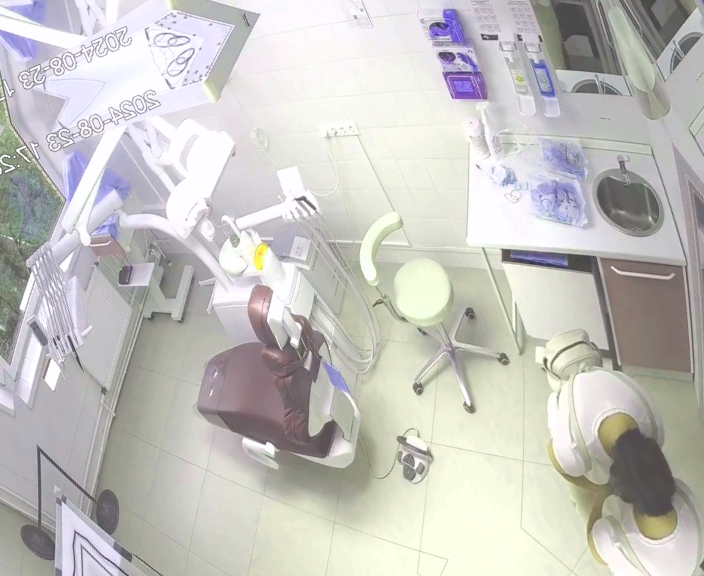Empty: (157, 267, 381, 515)
